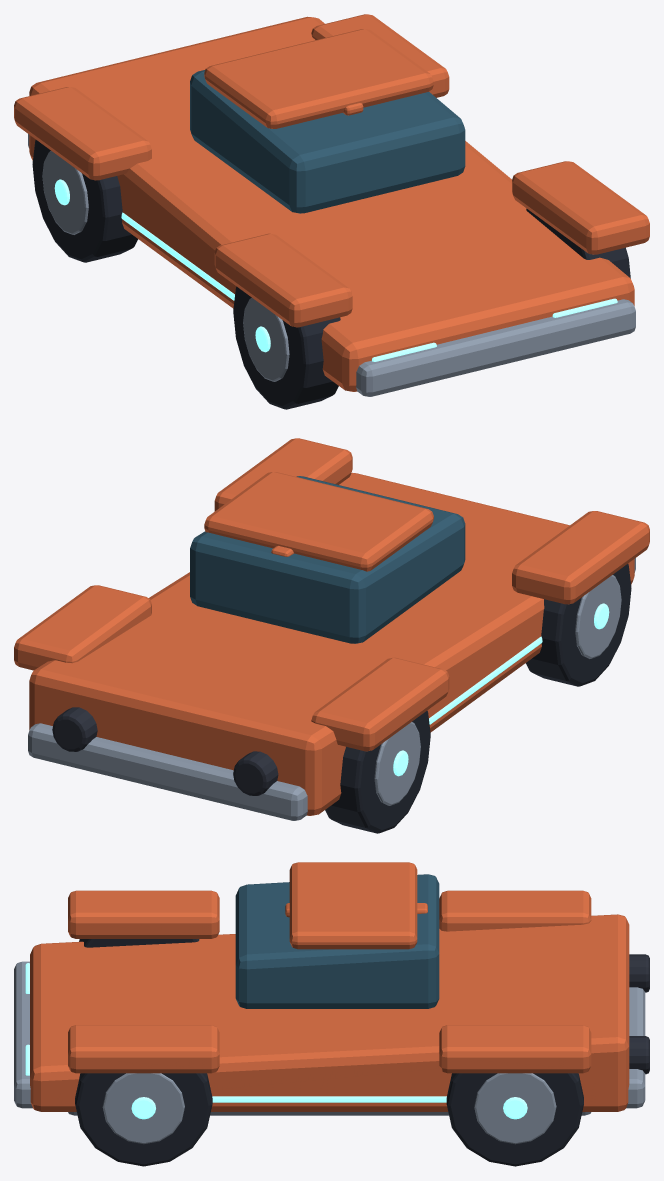
File: Bulwark.fbx
3 renders of one model, top to bottom at view 1: azimuth 30°, elevation 25°; view 2: azimuth 150°, elevation 25°; view 3: azimuth 270°, elevation 25°, orthographic. The views are drawn at different scales.
Parts seen in each view (by area): view 1: Body_Bulwark, Glass_Cockpit, Body_RoofArmor, Body_ImpactBar, Body_ArmorPod, Body_ArmorPod.002, Body_ArmorPod.001, Wheel_LFront, Wheel_LRear, WheelHub_LFront, WheelHub_LRear, Body_ArmorPod.003 (+2 smaller); view 2: Body_Bulwark, Glass_Cockpit, Body_RoofArmor, Body_ImpactBar.001, Body_ArmorPod, Body_ArmorPod.001, Body_ArmorPod.003, Wheel_LFront, Wheel_LRear, Body_ArmorPod.002, WheelHub_LRear, WheelHub_LFront (+3 smaller); view 3: Body_Bulwark, Glass_Cockpit, Body_RoofArmor, Body_ArmorPod.003, Body_ArmorPod.002, Body_ArmorPod, Wheel_RRear, Wheel_RFront, Body_ArmorPod.001, WheelHub_RFront, WheelHub_RRear, Body_ImpactBar (+8 smaller).
Part boxes in pixels (x1,y1,x2,y2): Body_Bulwark: (29, 16, 634, 391); Glass_Cockpit: (190, 70, 465, 213); Body_RoofArmor: (204, 29, 433, 128); Body_ImpactBar: (356, 299, 635, 396); Body_ArmorPod: (214, 233, 352, 327); Body_ArmorPod.002: (512, 161, 649, 254); Body_ArmorPod.001: (14, 87, 151, 180); Wheel_LFront: (233, 286, 340, 409); Wheel_LRear: (32, 140, 137, 262); WheelHub_LFront: (243, 298, 289, 381); WheelHub_LRear: (42, 151, 88, 234); Body_ArmorPod.003: (311, 14, 449, 97); Body_Bulwark: (29, 472, 634, 815); Glass_Cockpit: (190, 476, 465, 643); Body_RoofArmor: (204, 472, 433, 571); Body_ImpactBar.001: (28, 723, 307, 820); Body_ArmorPod: (512, 511, 649, 604); Body_ArmorPod.001: (311, 657, 449, 751); Body_ArmorPod.003: (14, 585, 151, 670); Wheel_LFront: (526, 564, 631, 686); Wheel_LRear: (325, 710, 430, 833); Body_ArmorPod.002: (214, 438, 352, 511); WheelHub_LRear: (374, 722, 420, 805); WheelHub_LFront: (575, 575, 621, 658); Body_Bulwark: (30, 914, 629, 1111); Glass_Cockpit: (235, 874, 439, 1008); Body_RoofArmor: (289, 862, 417, 949); Body_ArmorPod.003: (439, 1025, 591, 1073); Body_ArmorPod.002: (68, 1025, 219, 1073); Body_ArmorPod: (68, 890, 219, 938); Wheel_RRear: (446, 1073, 583, 1166); Wheel_RFront: (75, 1073, 212, 1166); Body_ArmorPod.001: (439, 890, 591, 931); WheelHub_RFront: (102, 1073, 184, 1144); WheelHub_RRear: (474, 1073, 556, 1144); Body_ImpactBar: (14, 961, 32, 1108).
Bounding box in the file's own units: 241 × 136 × 398.
